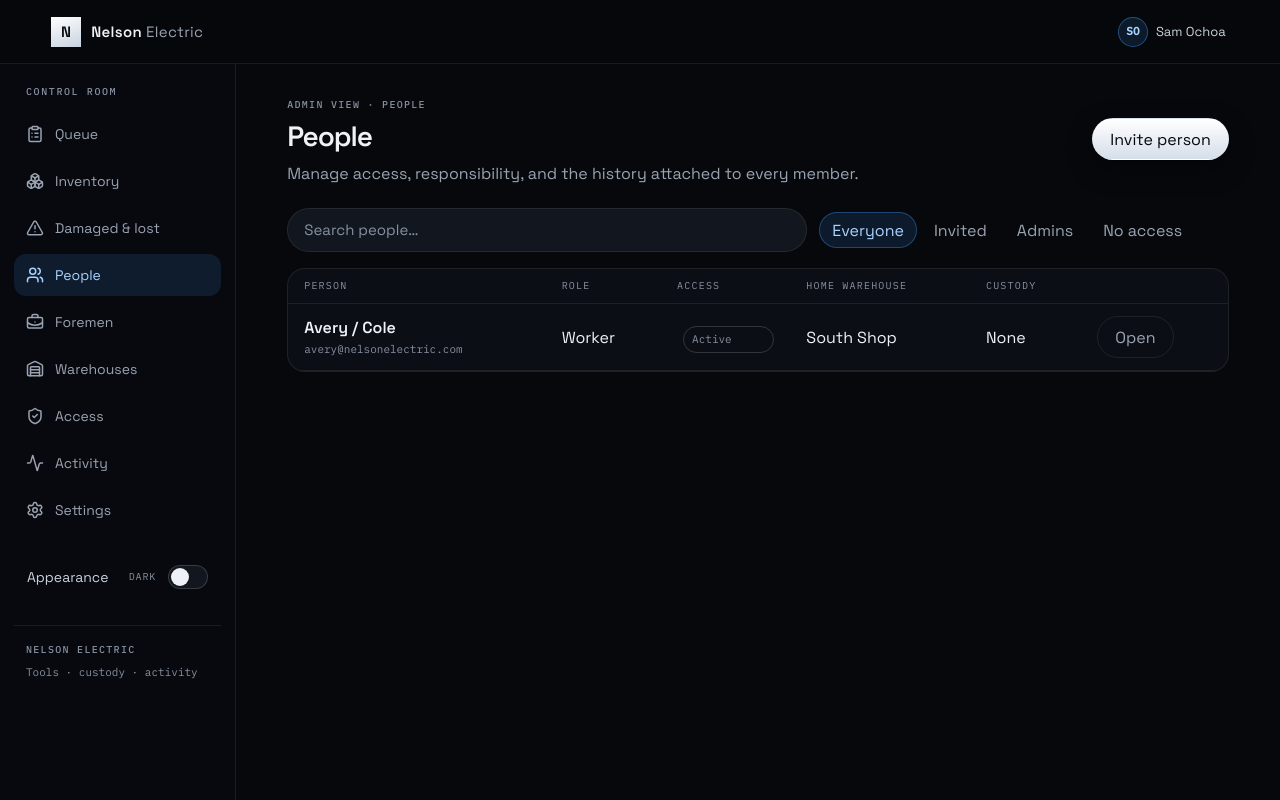
admin route surfaces › keeps opaque person IDs in one encoded route segment and decodes them for the detail query
Step 1. Click the link "Avery / Cole" → (350,328), box [304,317,396,338]
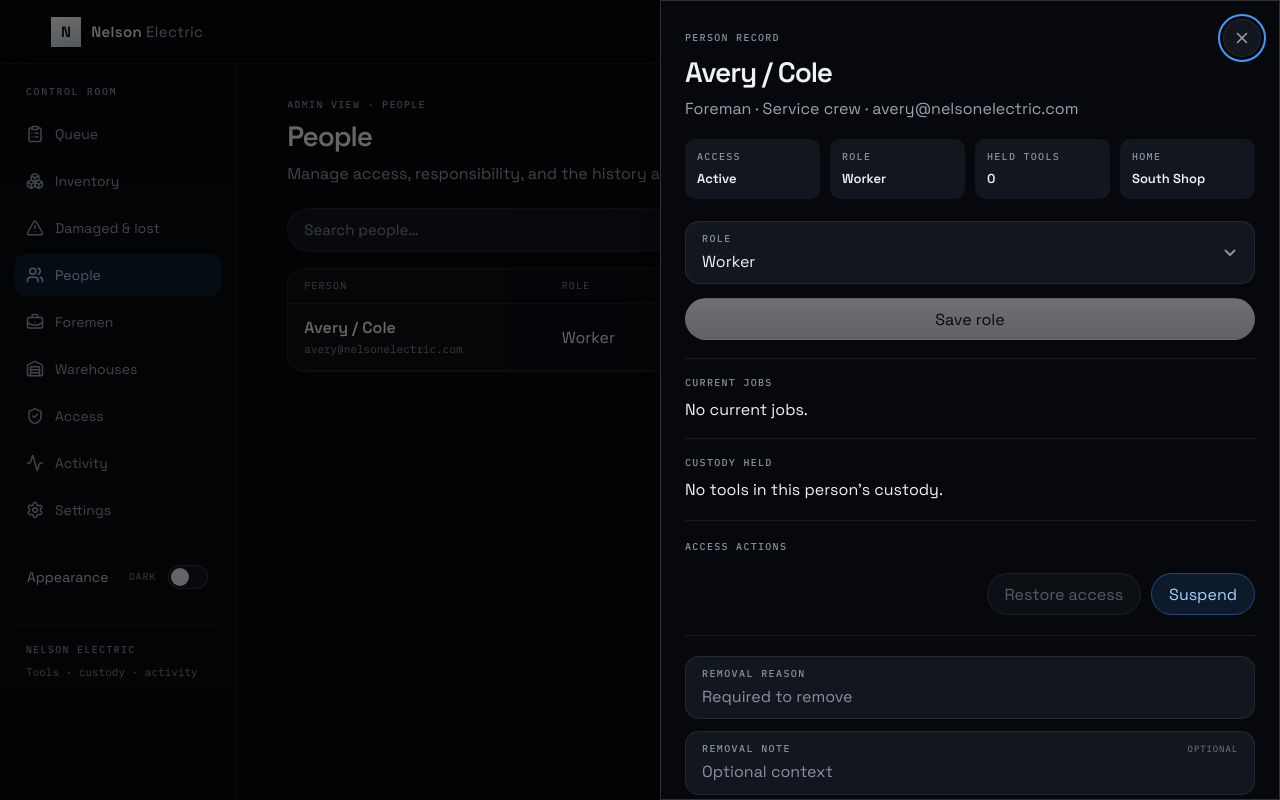
Result: the dialog named "Person details for Avery / Cole" is shown at [660,0,1279,799]
